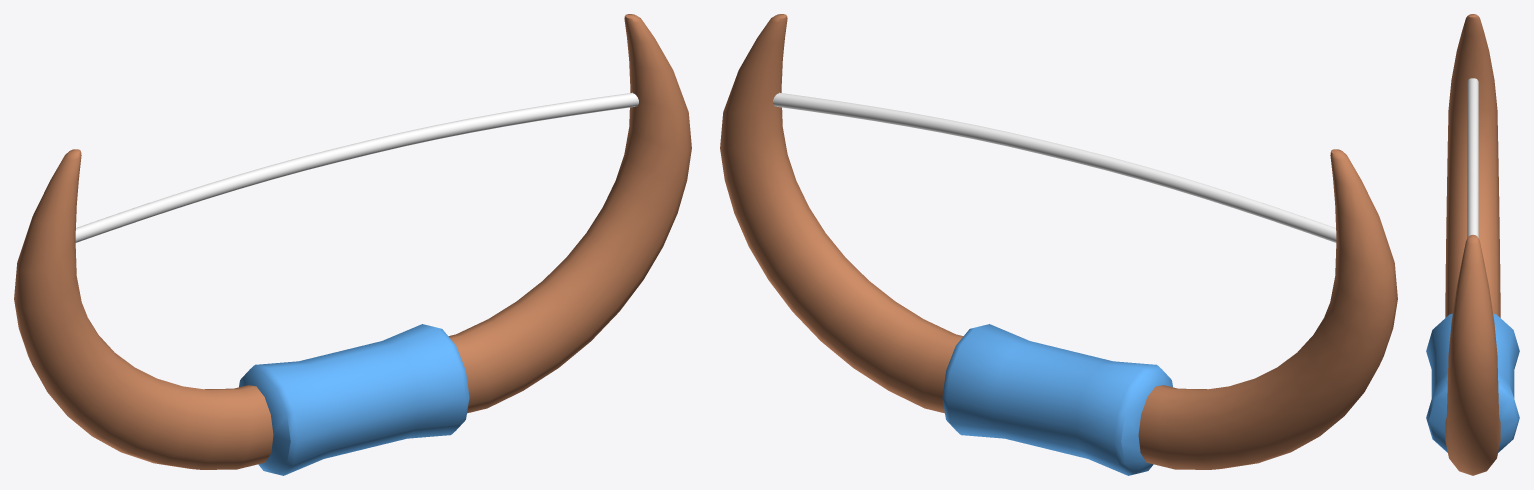
File: bow_teamBlue.glb
The picture shows the model from 3 angles, left to right: view 1: azimuth 30°, elevation 25°; view 2: azimuth 150°, elevation 25°; view 3: azimuth 270°, elevation 25°; orthographic projection. The views are drawn at different scales.
Parts seen in each view (by area): view 1: bow_teamBlue; view 2: bow_teamBlue; view 3: bow_teamBlue.
Part boxes in pixels (x1,y1,x2,y2): bow_teamBlue: (14, 14, 691, 475); bow_teamBlue: (720, 14, 1397, 475); bow_teamBlue: (1426, 14, 1519, 475).
Bounding box in the file's own units: 0.4629 × 0.2438 × 0.0687.
